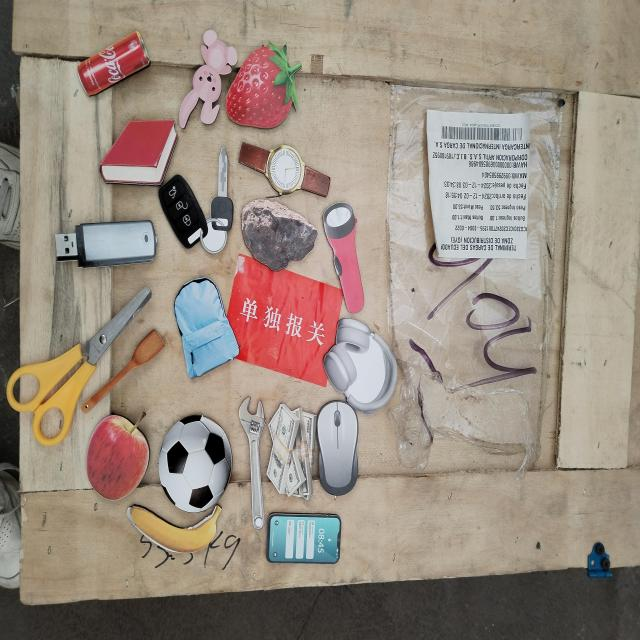Other Objects: (6, 286, 152, 446), (155, 142, 256, 274), (148, 401, 242, 527), (165, 268, 241, 381), (78, 327, 166, 422), (322, 316, 398, 413), (319, 196, 379, 317), (178, 29, 237, 129), (240, 197, 318, 272), (86, 412, 150, 500), (237, 394, 278, 531), (55, 217, 157, 271), (237, 142, 332, 198), (263, 402, 317, 500), (77, 30, 150, 97), (127, 503, 222, 553), (317, 401, 358, 495), (266, 513, 341, 564)
